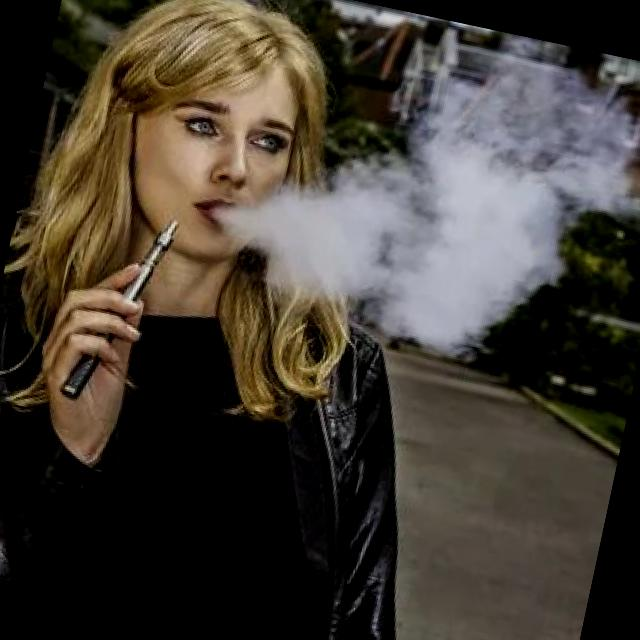smoke: (55, 201, 184, 413)
